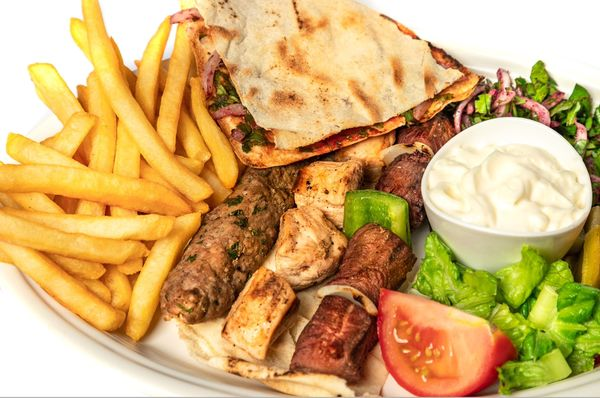sushi: (421, 117, 594, 273)
